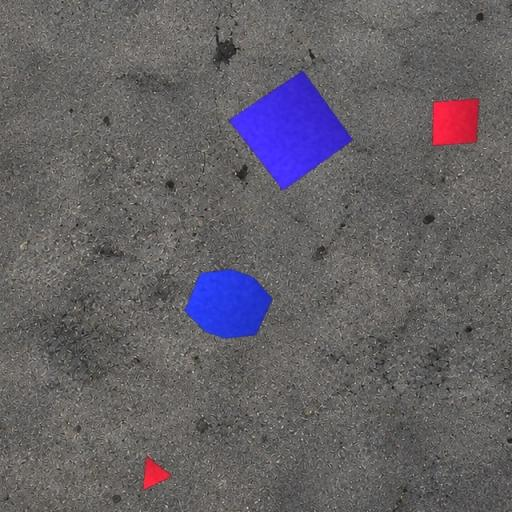BLUE_SQUARE: (228, 70, 354, 191)
RED_SQUARE: (432, 98, 480, 146)
